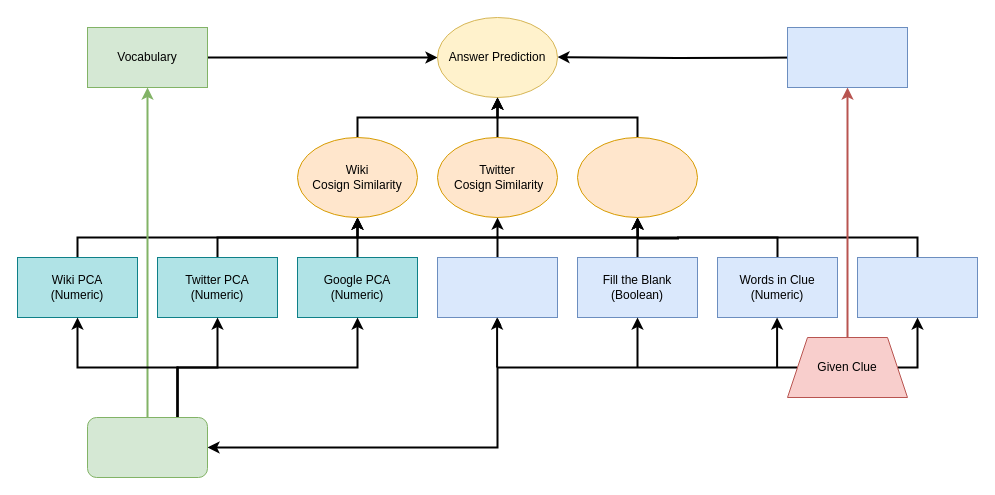
The diagram is 995 pixels wide and 495 high, and some of its shapes have lost their labels. Each missing label, with the centre of its shape:
"Google Cosign Similarity" goes at [637,177].
"Known Characters (String)" goes at [847,57].
"Length of Answer (Numeric)" goes at [917,287].
"Presence of noun (Boolean)" goes at [497,287].
"Pretrained Gensim Models" goes at [147,447].
